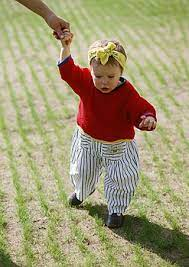child: (52, 28, 154, 233)
